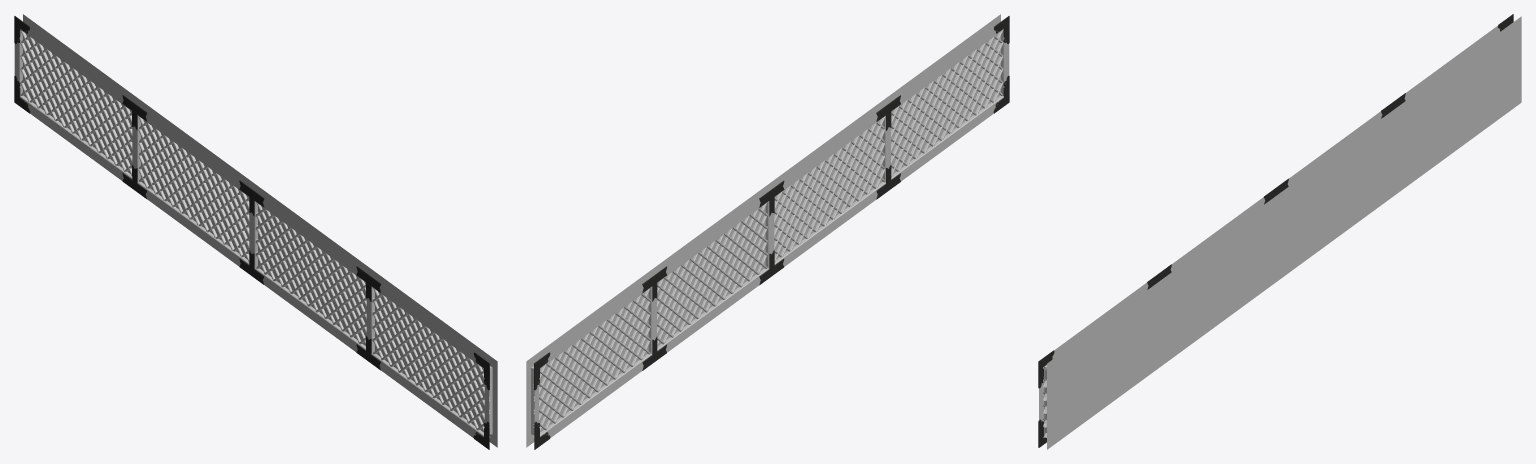
Rendered from SM_GJJ_1F_Window01A.fbx.
The picture shows the model from 3 angles, left to right: view 1: azimuth 30°, elevation 25°; view 2: azimuth 150°, elevation 25°; view 3: azimuth 330°, elevation 25°; orthographic projection.
Visible parts, largest first — view 1: SM_GJJ_1F_Window01A; view 2: SM_GJJ_1F_Window01A; view 3: SM_GJJ_1F_Window01A.
Part boxes in pixels (x1,y1,x2,y2): SM_GJJ_1F_Window01A: (14,14,497,449); SM_GJJ_1F_Window01A: (526,14,1009,449); SM_GJJ_1F_Window01A: (1038,14,1521,449).
Bounding box in the file's own units: 6.35 × 601 × 60.47.
